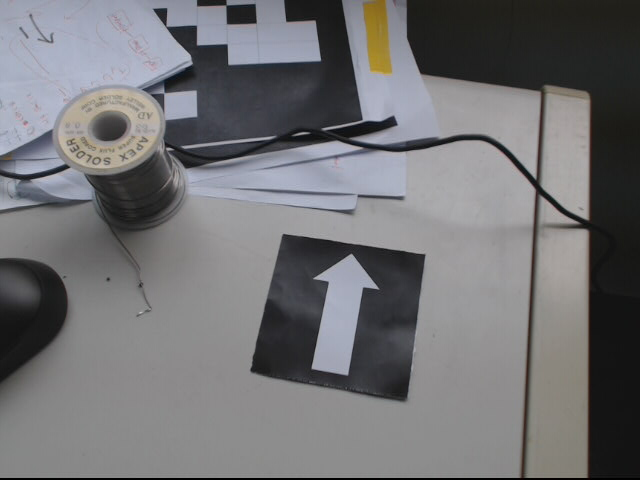straight: (250, 232, 429, 405)
